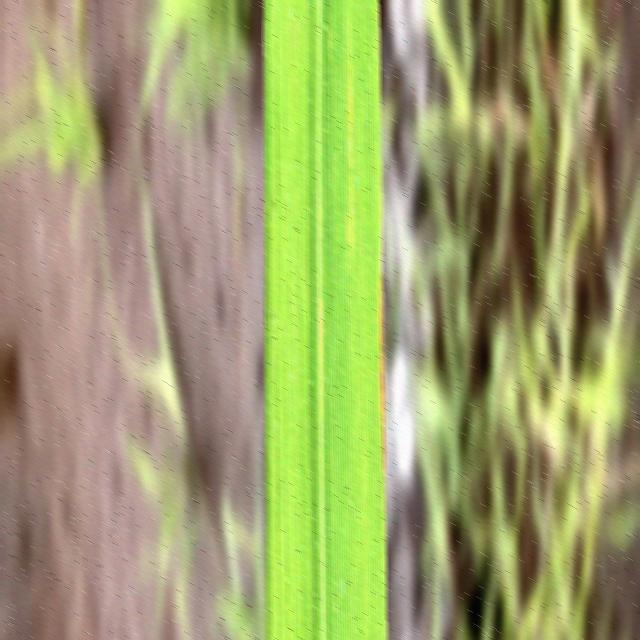NBS: (379, 242, 386, 477)
